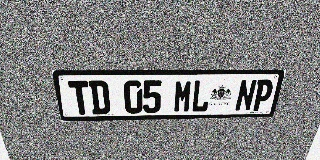0: (123, 80, 143, 114)
5: (143, 80, 162, 113)
D: (88, 80, 111, 114)
L: (191, 80, 212, 112)
M: (173, 80, 193, 113)
N: (234, 79, 258, 111)
P: (251, 79, 275, 111)
T: (68, 81, 92, 115)
